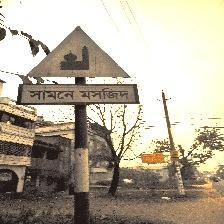Mosque in front: (21, 26, 139, 106)
